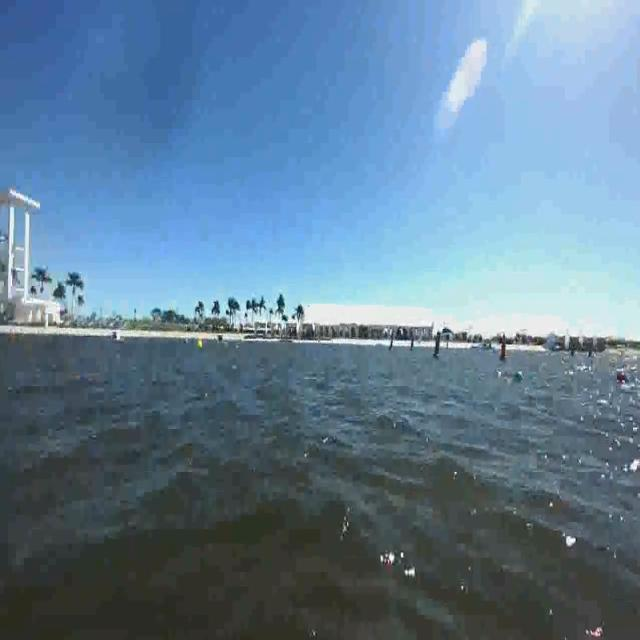yellow-buoy: (198, 339, 205, 351)
